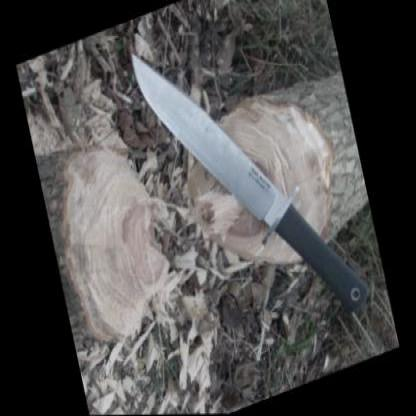knife: (126, 1, 298, 270)
